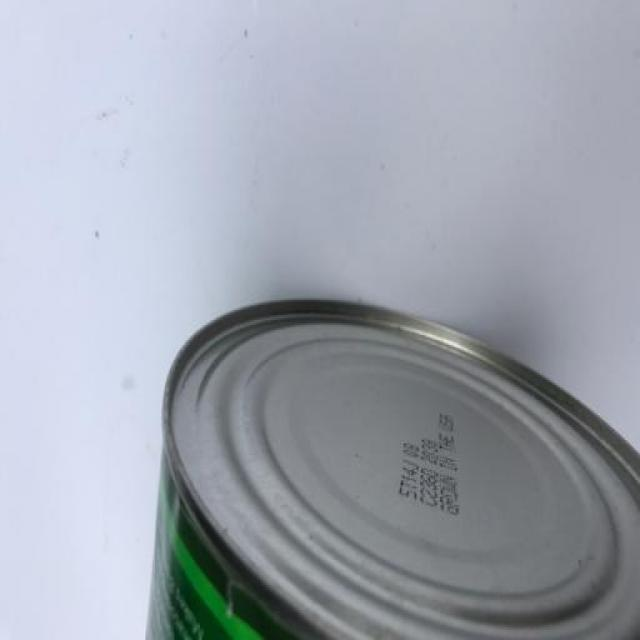metel: (147, 234, 640, 640)
